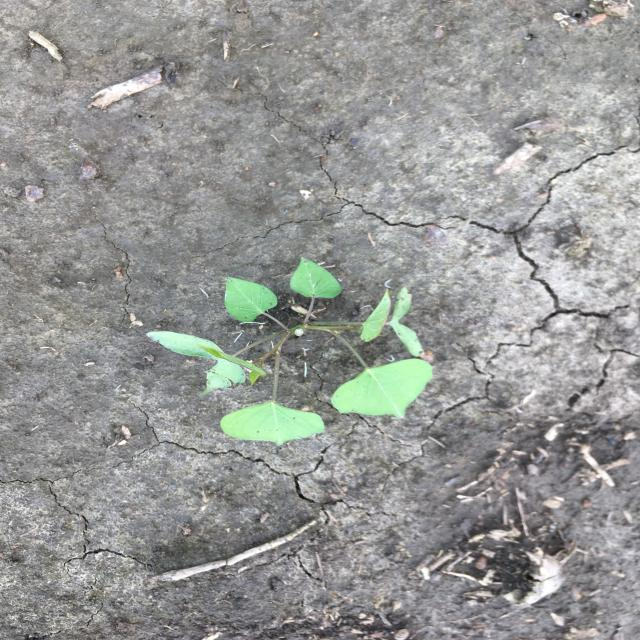MorningGlory: (145, 255, 438, 447)
